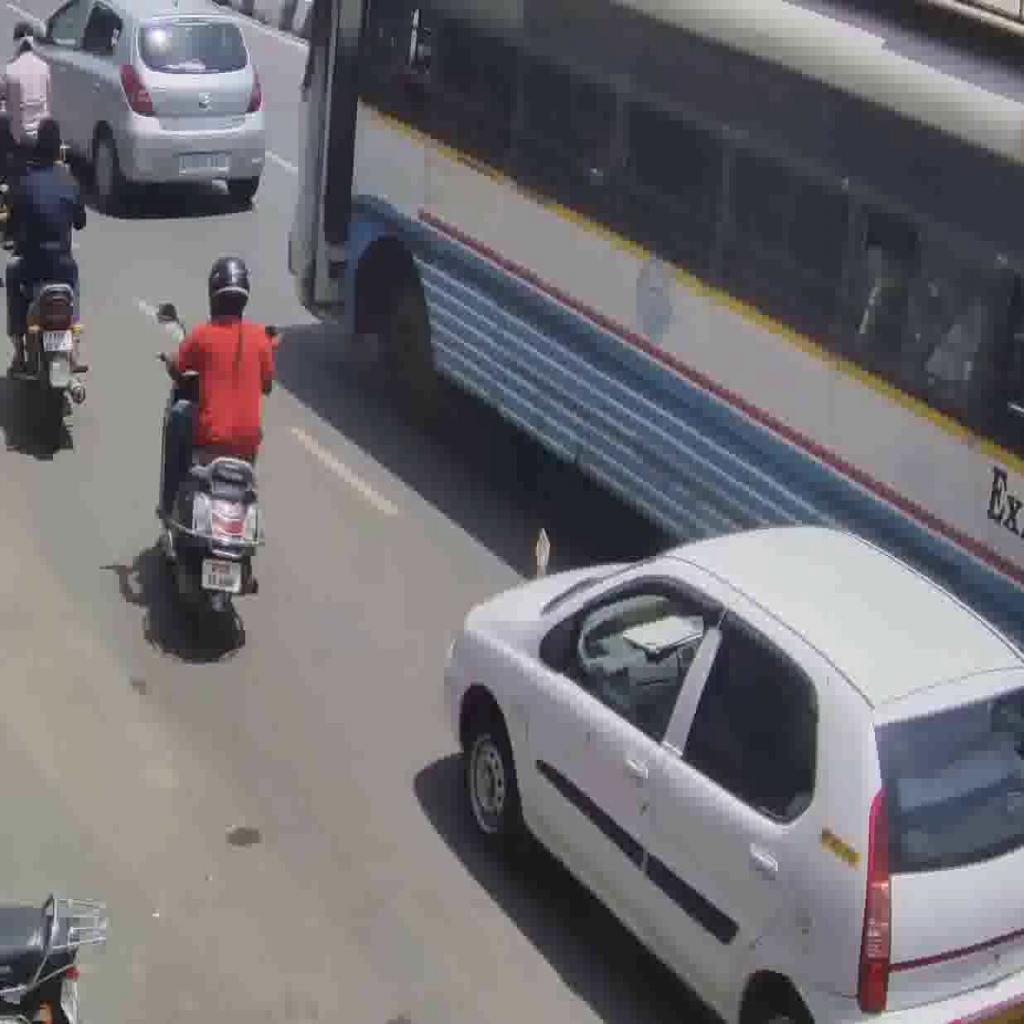helmet: (157, 349, 274, 627), (1, 189, 98, 444)
